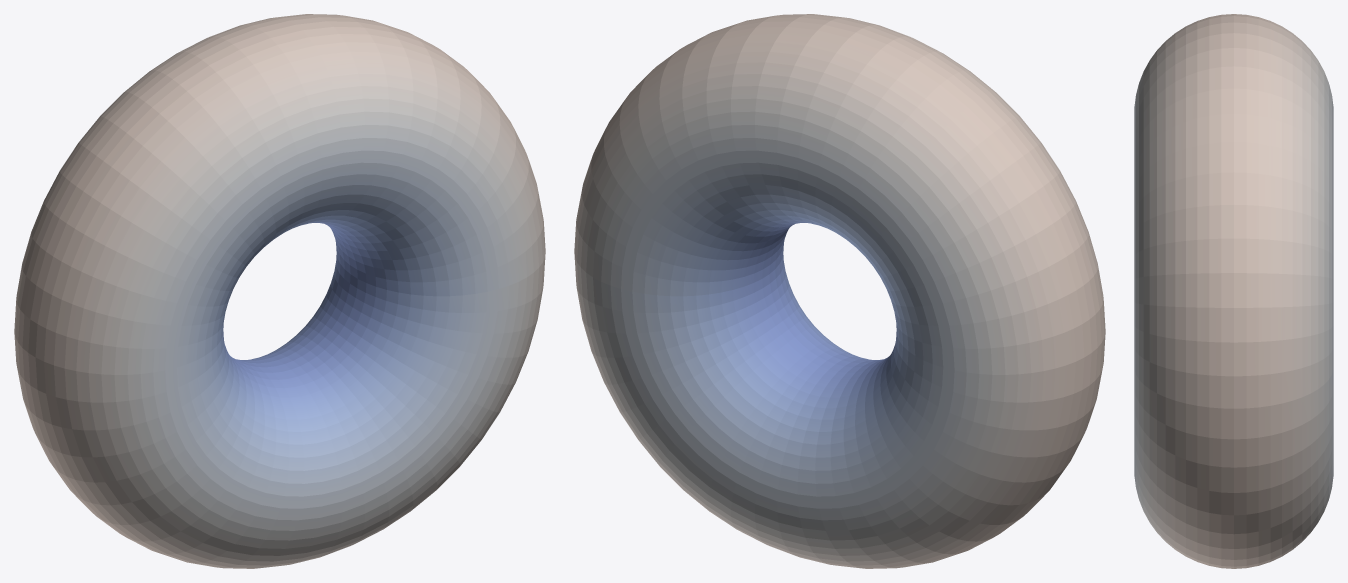
3 renders of one model, left to right at view 1: azimuth 30°, elevation 25°; view 2: azimuth 150°, elevation 25°; view 3: azimuth 270°, elevation 25°, orthographic. The views are drawn at different scales.
Parts seen in each view (by area): view 1: world; view 2: world; view 3: world.
Part boxes in pixels (<box>): world: <box>14,14,545,568</box>; world: <box>574,14,1105,568</box>; world: <box>1134,14,1333,568</box>.
Bounding box in the file's own units: 21.87 × 21.82 × 7.85.
